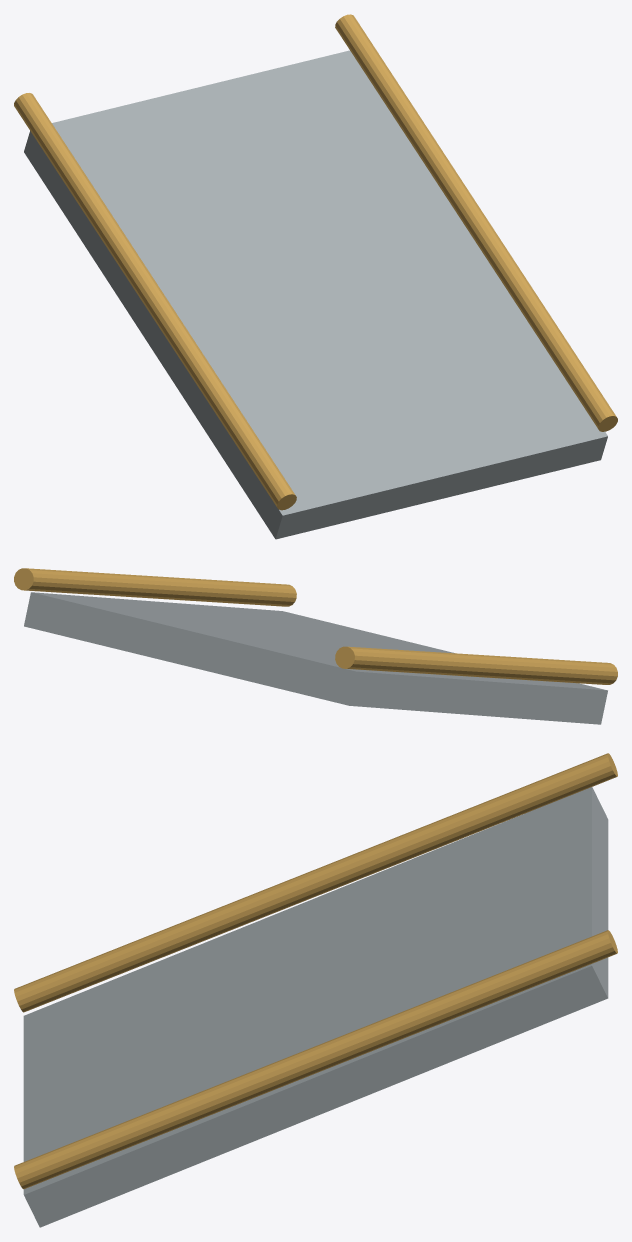
Rendered from ramp.glb.
3 views of the same model, one above another, from view 1: azimuth 30°, elevation 25°; view 2: azimuth 150°, elevation 25°; view 3: azimuth 270°, elevation 25° (orthographic). The views are drawn at different scales.
Parts seen in each view (by area): view 1: vehicle access ramp, ramp guide.001, ramp guide; view 2: vehicle access ramp, ramp guide.001, ramp guide; view 3: vehicle access ramp, ramp guide.001, ramp guide.
Boxes of the visible parts, bbox=[...] form: vehicle access ramp: bbox=[24, 50, 607, 539]; ramp guide.001: bbox=[335, 14, 617, 431]; ramp guide: bbox=[14, 93, 296, 510]; vehicle access ramp: bbox=[24, 592, 607, 724]; ramp guide.001: bbox=[14, 568, 296, 606]; ramp guide: bbox=[335, 646, 617, 684]; vehicle access ramp: bbox=[23, 787, 608, 1227]; ramp guide.001: bbox=[14, 930, 617, 1189]; ramp guide: bbox=[14, 753, 617, 1012].
Size of the model in its own units: 1.57 by 1.15 by 2.14.
